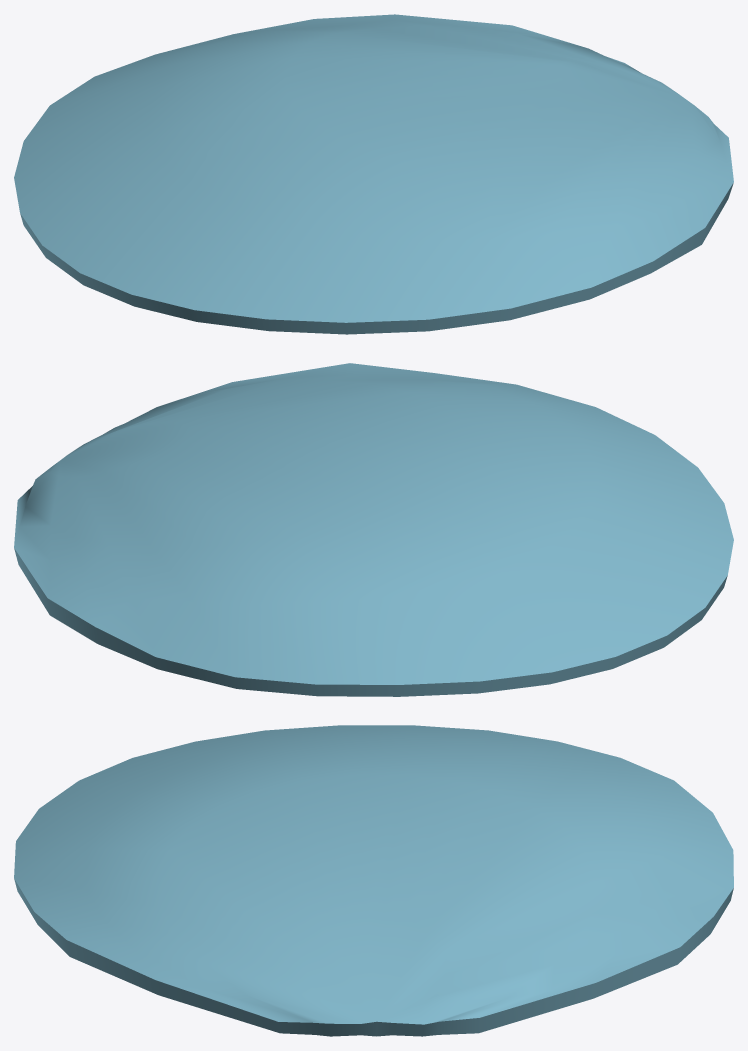
Rendered from Scallopsshell_LP.fbx.
The picture shows the model from 3 angles, top to bottom: view 1: azimuth 30°, elevation 25°; view 2: azimuth 150°, elevation 25°; view 3: azimuth 270°, elevation 25°; orthographic projection.
Visible parts, largest first — view 1: Scallopsshell_LP; view 2: Scallopsshell_LP; view 3: Scallopsshell_LP.
Part boxes in pixels (bbox=[...]): Scallopsshell_LP: bbox=[14, 14, 733, 334]; Scallopsshell_LP: bbox=[14, 363, 733, 696]; Scallopsshell_LP: bbox=[14, 725, 733, 1036].
Size of the model in its own units: 47.27 by 6.34 by 46.98.
